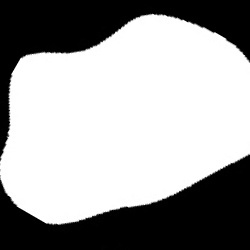spot: (1, 15, 249, 225)
